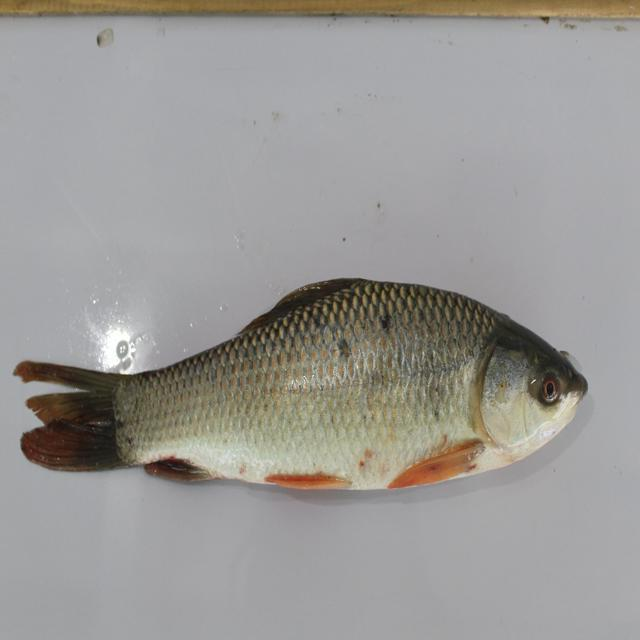Rohu: (8, 277, 592, 494)
